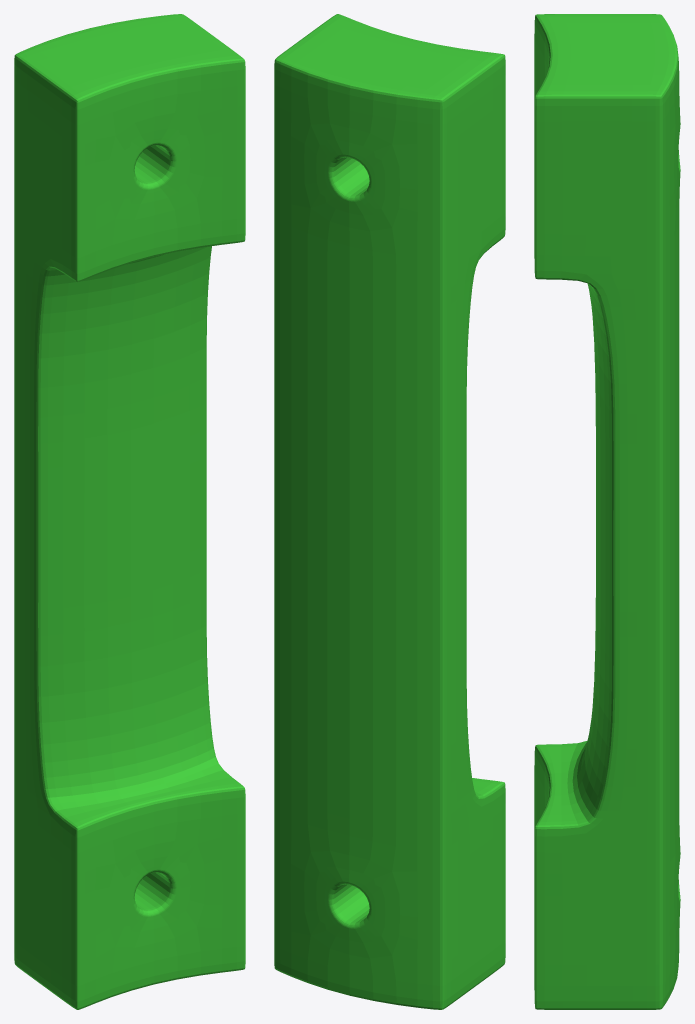
The model's file is canister_handle.fbx.
The picture shows the model from 3 angles, left to right: view 1: azimuth 30°, elevation 25°; view 2: azimuth 150°, elevation 25°; view 3: azimuth 270°, elevation 25°; orthographic projection.
Visible parts, largest first — view 1: Handle; view 2: Handle; view 3: Handle.
Boxes of the visible parts, x1,y1,x2,y2 form: Handle: [14, 14, 245, 1009]; Handle: [274, 14, 505, 1009]; Handle: [534, 14, 680, 1009].
Size of the model in its own units: 13.55 by 69.08 by 9.98.
